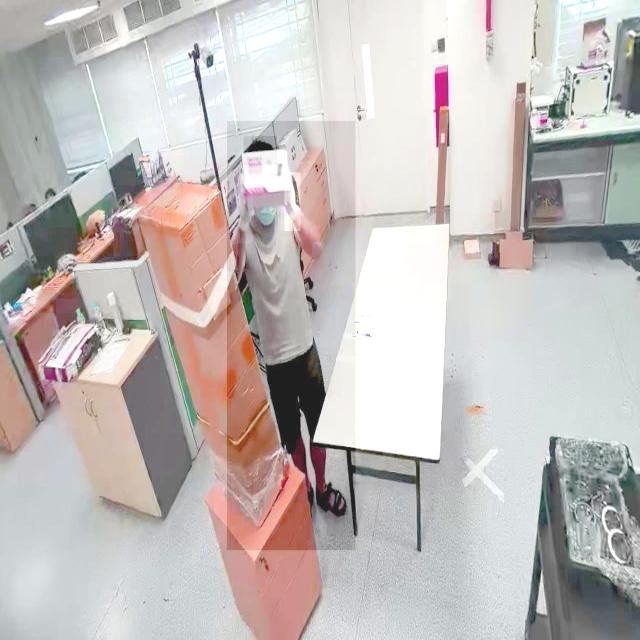hand_glove: (234, 182, 253, 244), (284, 173, 300, 231)
head_nohelmet: (243, 136, 277, 166)
person: (227, 121, 356, 551)
